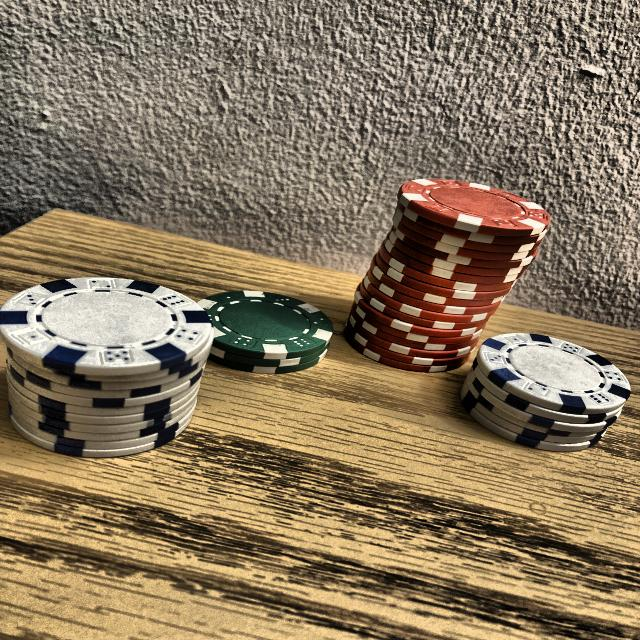Chip: (335, 153, 557, 398), (3, 252, 233, 483), (448, 306, 626, 468), (188, 286, 336, 378)
